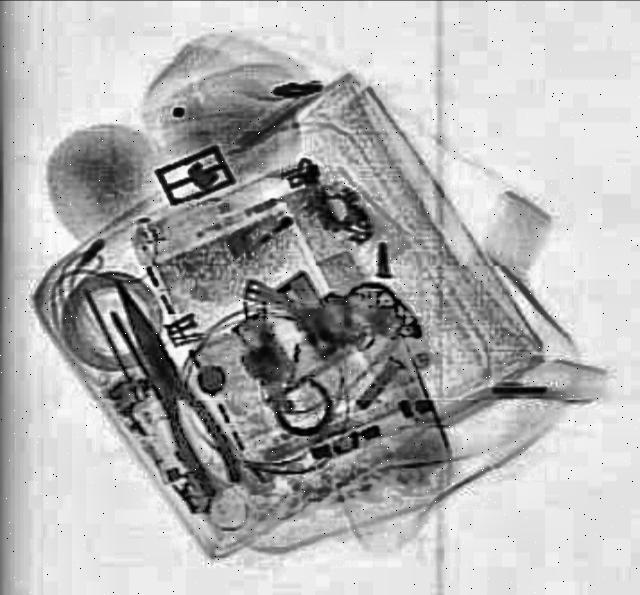Pliers: (86, 271, 250, 503)
